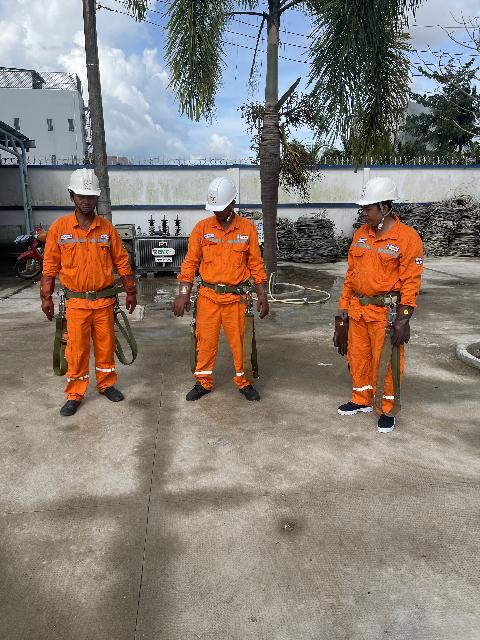gloves: (169, 276, 204, 328), (34, 276, 69, 326), (326, 310, 362, 357), (384, 298, 418, 346), (114, 276, 144, 317), (256, 270, 273, 322)
harness: (347, 285, 410, 313), (57, 285, 128, 309), (194, 274, 257, 298)
helmet: (198, 177, 244, 215), (351, 175, 402, 207), (60, 168, 104, 203)
shoes: (93, 380, 128, 405), (339, 395, 367, 422), (240, 381, 266, 404), (378, 410, 399, 436), (57, 396, 77, 423), (186, 381, 210, 402)
